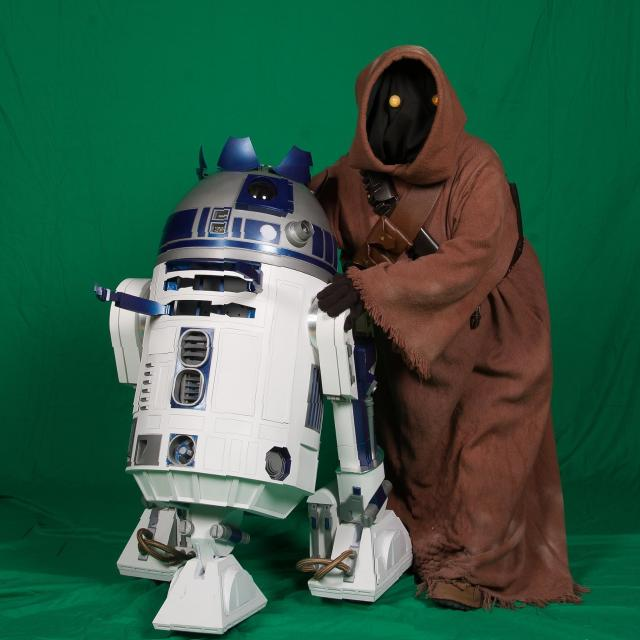r2-d2: (95, 165, 412, 640)
